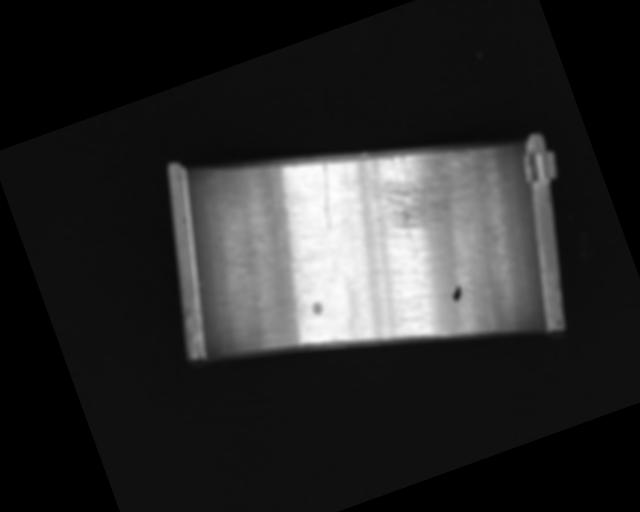blot: (449, 283, 464, 302)
bruise: (310, 300, 324, 317)
nick: (194, 256, 267, 355), (306, 162, 347, 229)
scratch: (351, 120, 494, 248)
